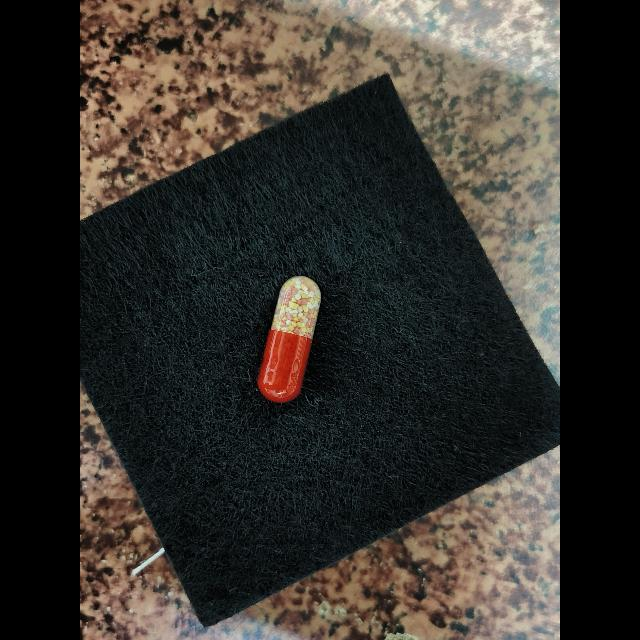Intact Capsule: (258, 276, 321, 402)
